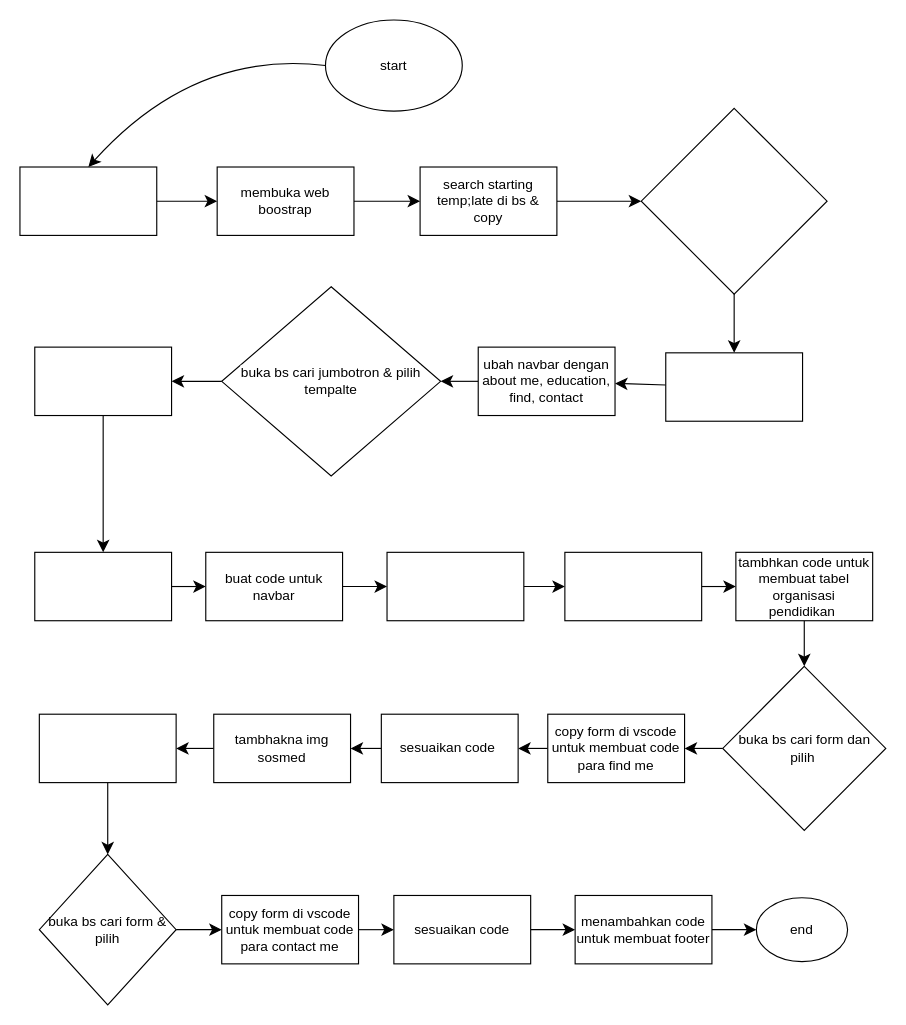
Some shapes in this 906 by 1025 pixel diagram are drawn without their labels. Each missing label, with the centre of its shape:
"buat code untuk education" goes at point 633,586.
"buka bs cari navbar dan pilih template" goes at point 733,200.
"copy Jumbotron ke viscose" goes at point 103,381.
"copy nabber ke viscose" goes at point 734,386.
"masukan link href dan target blank" goes at point 107,748.
"Membuka vscode" goes at point 88,200.
"tambahkan code inflame& h1" goes at point 455,586.
"ubah jumbotron sesuai dengan kebutuhan" goes at point 103,586.
